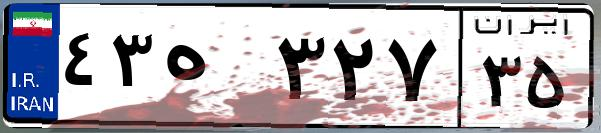2: (330, 28, 385, 110)
3: (270, 28, 330, 110), (475, 38, 525, 113), (110, 28, 158, 98)
4: (57, 26, 110, 100)
5: (525, 38, 570, 115)
7: (385, 28, 445, 110)
ه: (158, 20, 270, 120)
